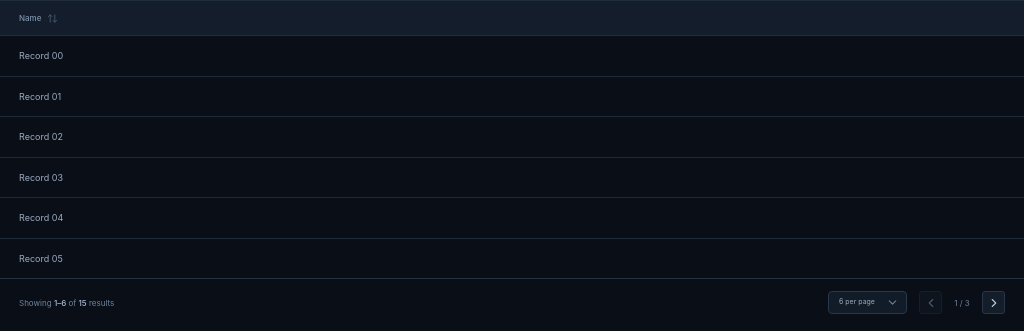
Test: DataTable › sorts in both directions and exposes sort state
Click the button "Name" at (39, 18), box [19,12,58,24]
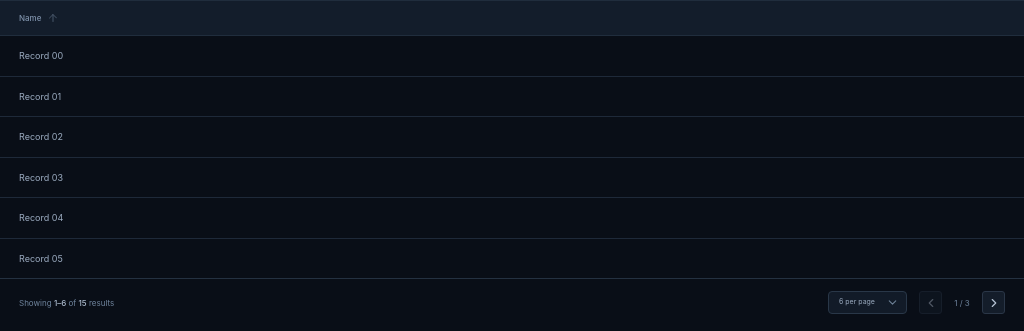
Click the button "Name" at (39, 18), box [19,12,59,24]
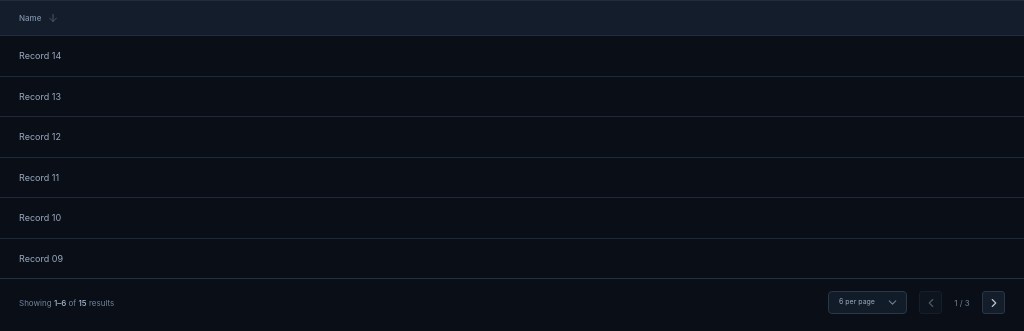
Now the text "Record 14" is shown, box [0,36,1023,76]
